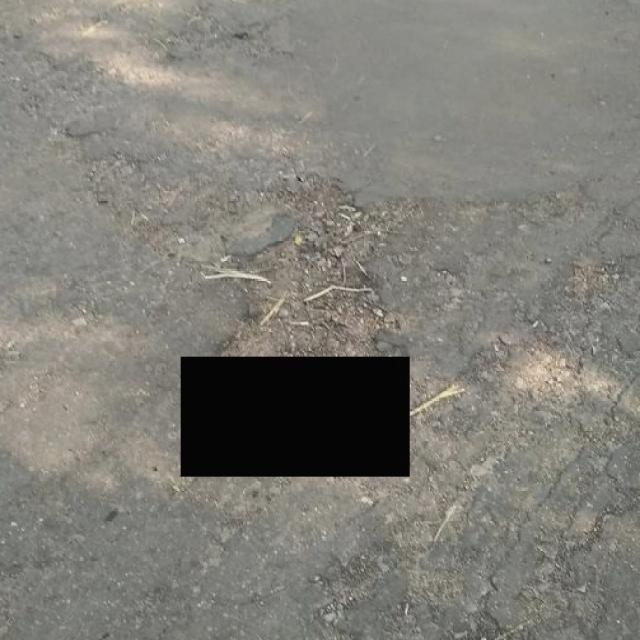road-pothole: (228, 169, 442, 358)
